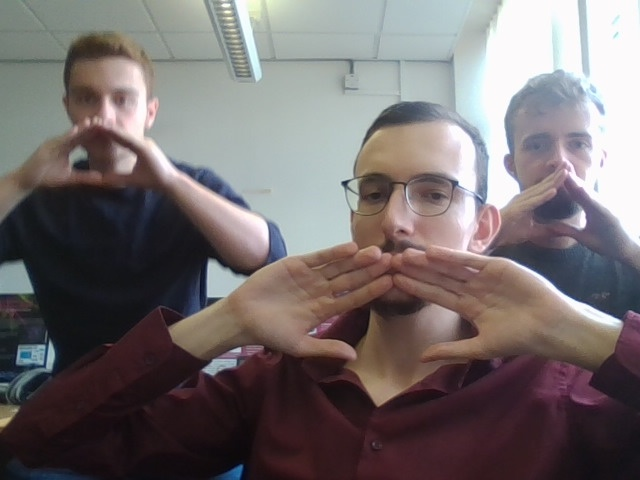thankyou: (238, 242, 542, 369), (498, 169, 626, 263), (22, 123, 173, 195)
